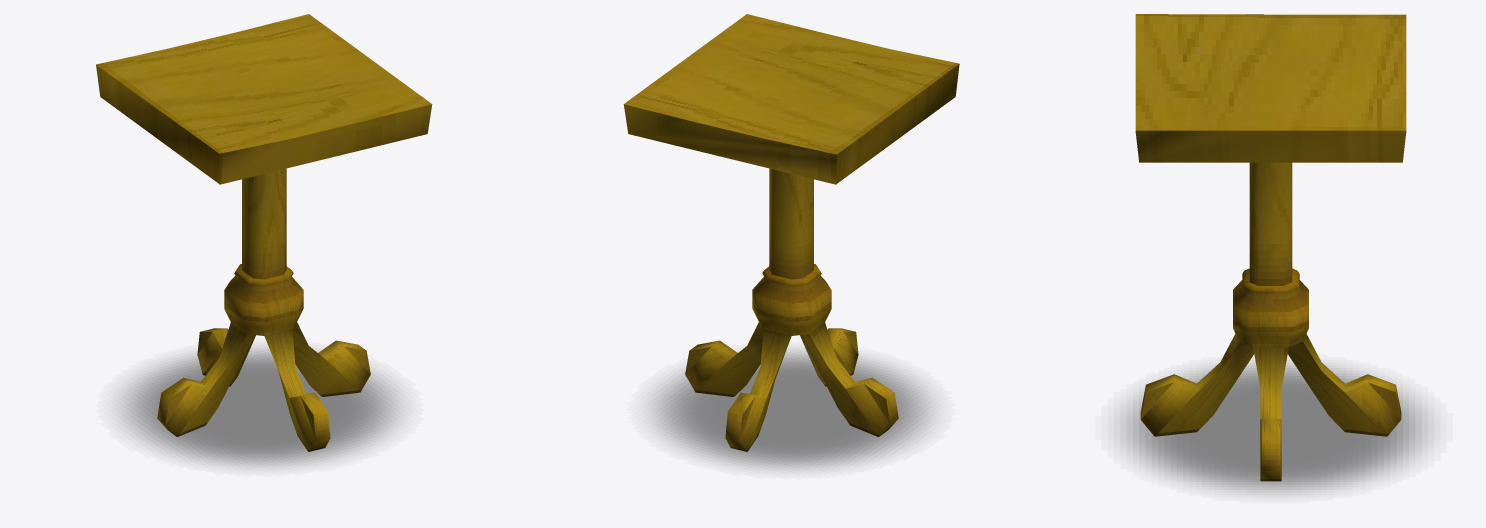
The model's file is ending_table.glb.
The picture shows the model from 3 angles, left to right: view 1: azimuth 30°, elevation 25°; view 2: azimuth 150°, elevation 25°; view 3: azimuth 270°, elevation 25°; orthographic projection. The views are drawn at different scales.
Visible parts, largest first — view 1: table_top, lamp_base, drop-shadow; view 2: table_top, lamp_base, drop-shadow; view 3: table_top, lamp_base, drop-shadow.
Part boxes in pixels (x1,y1,x2,y2): table_top: (96, 14, 432, 184); lamp_base: (157, 168, 370, 451); drop-shadow: (118, 347, 402, 467); table_top: (623, 14, 959, 184); lamp_base: (685, 168, 898, 451); drop-shadow: (650, 350, 933, 470); table_top: (1135, 14, 1406, 162); lamp_base: (1140, 162, 1401, 481); drop-shadow: (1120, 363, 1427, 492).
Size of the model in its own units: 2.22 by 2.21 by 2.22.
Materials: 2 (2 with a texture image).
